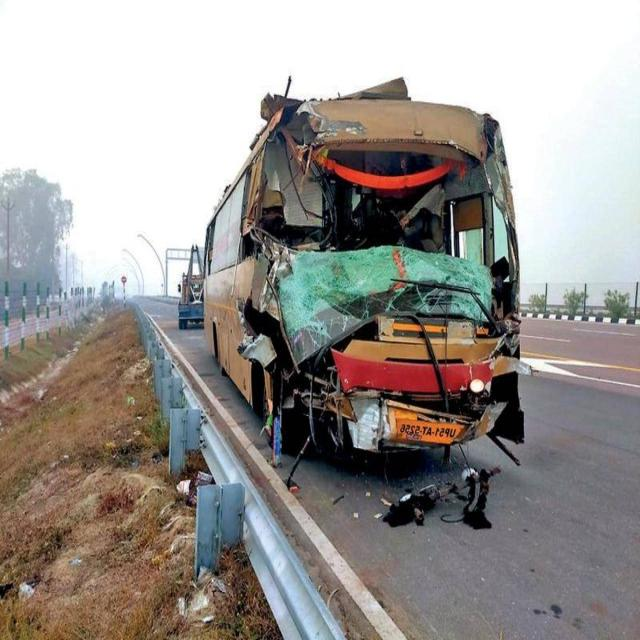accident: (204, 80, 524, 487)
